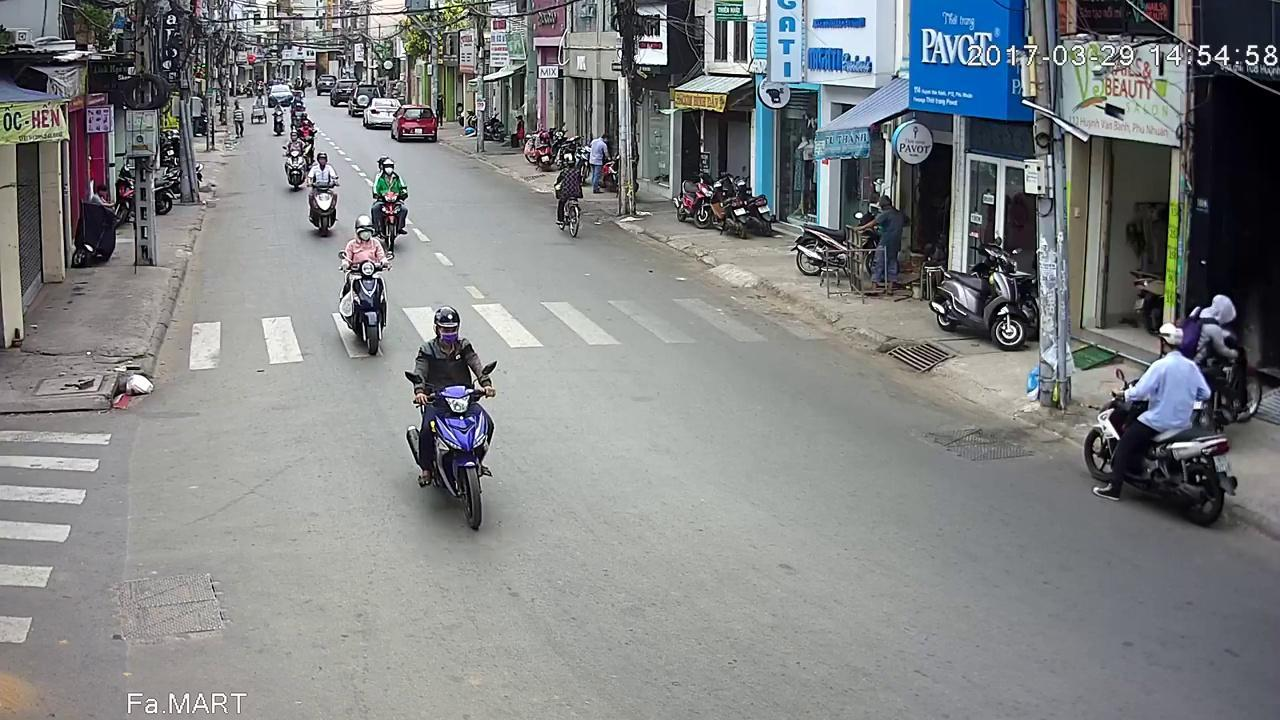xe dap: (552, 154, 581, 239)
xe hoi: (393, 104, 442, 143)
xe may: (1081, 322, 1236, 529), (408, 300, 503, 525), (335, 217, 393, 360), (369, 157, 408, 254), (306, 153, 341, 240), (281, 133, 306, 196)
